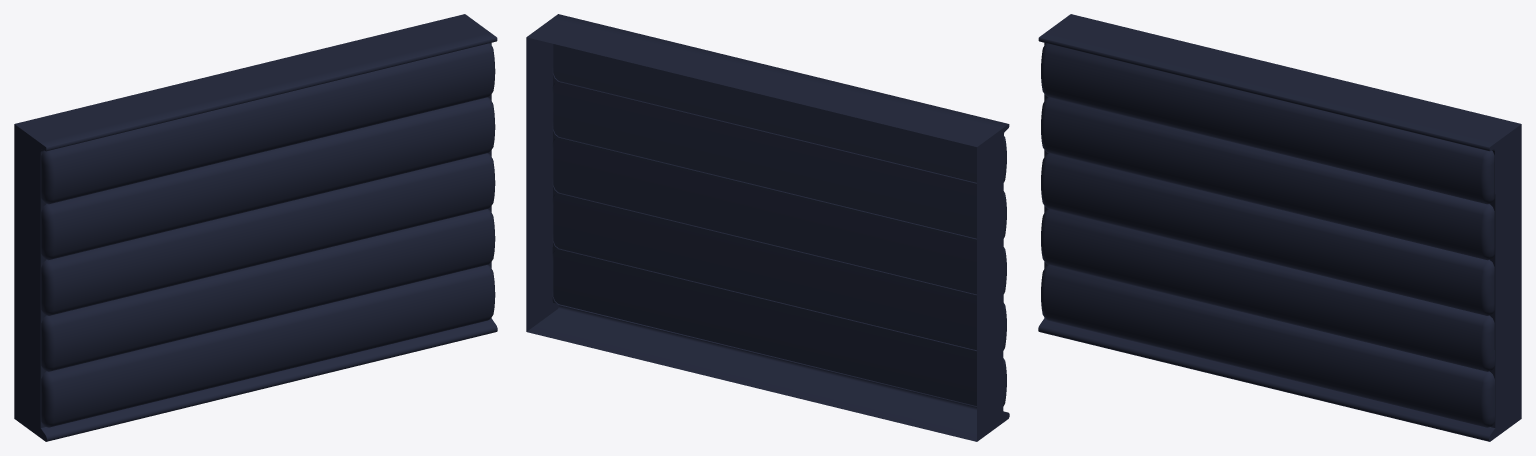
File: pared10.fbx
3 renders of one model, left to right at view 1: azimuth 30°, elevation 25°; view 2: azimuth 150°, elevation 25°; view 3: azimuth 330°, elevation 25°, orthographic.
Visible parts, largest first — view 1: 033; view 2: 033; view 3: 033.
Part boxes in pixels (bbox=[...]): 033: bbox=[14, 14, 497, 441]; 033: bbox=[526, 14, 1009, 441]; 033: bbox=[1038, 14, 1521, 441].
Bounding box in the file's own units: 400 × 250 × 51.75.
